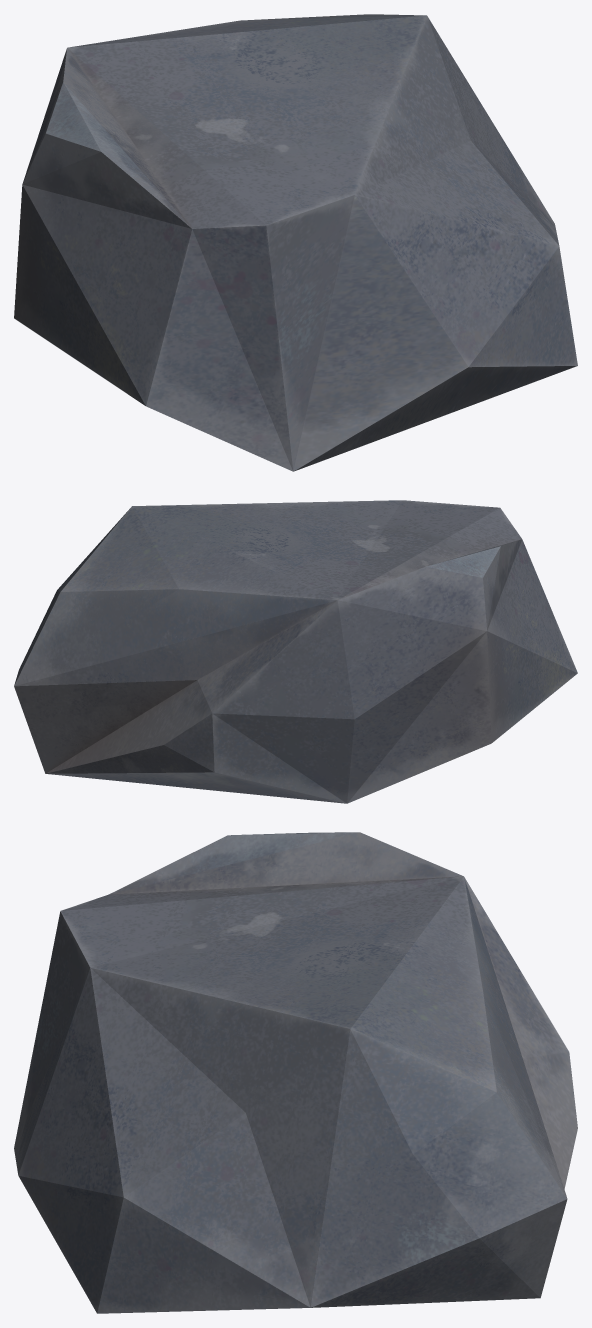
The model's file is rock9.glb.
3 views of the same model, one above another, from view 1: azimuth 30°, elevation 25°; view 2: azimuth 150°, elevation 25°; view 3: azimuth 270°, elevation 25° (orthographic). The views are drawn at different scales.
Parts seen in each view (by area): view 1: Object_18; view 2: Object_18; view 3: Object_18.
Boxes of the visible parts, left/top/right/bottom form: Object_18: left=14, top=14, right=577, bottom=471; Object_18: left=14, top=500, right=577, bottom=803; Object_18: left=14, top=832, right=577, bottom=1313.
Size of the model in its own units: 1.09 by 0.6356 by 0.9789.
1 material, 1 textured.
